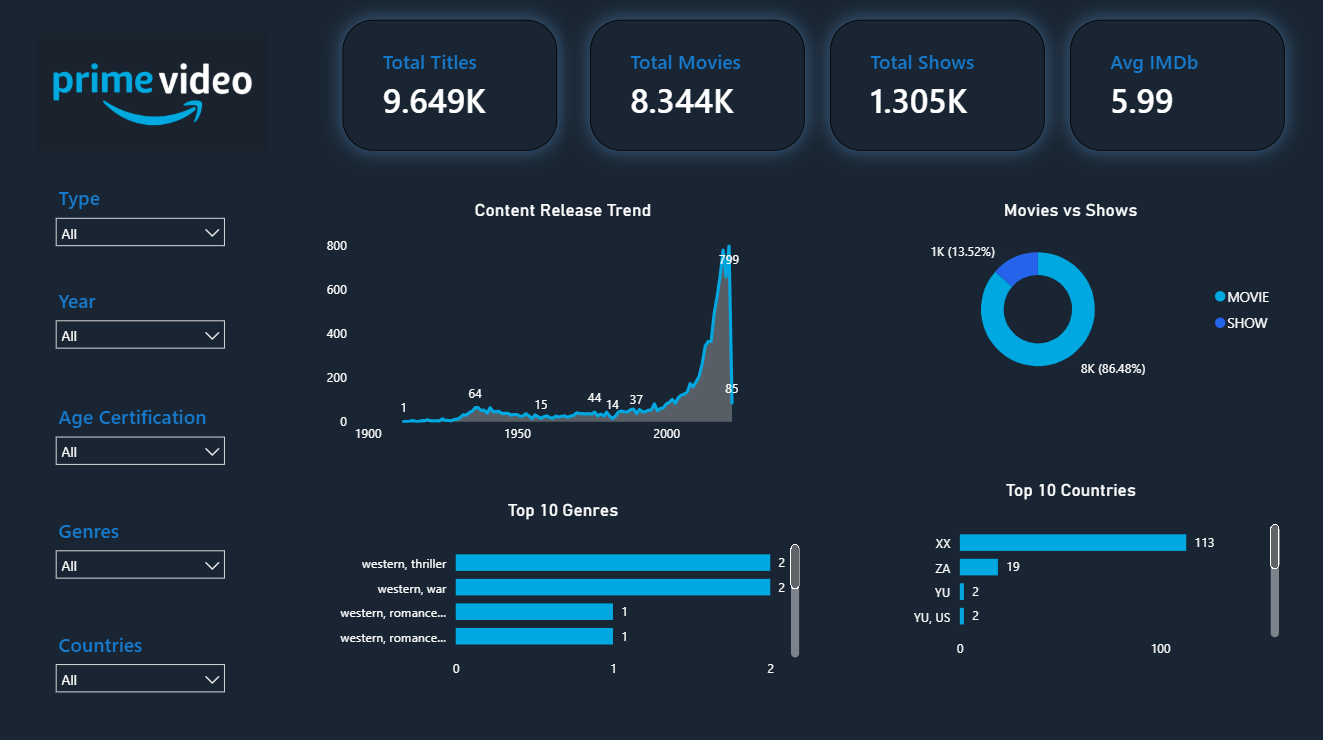

This screenshot's page, from the dashboard's own definition file:
{"tool":"powerbi","page":{"name":"Page 1","canvas":[1280,720],"ordinal":0},"visuals":[{"type":"cardVisual","fields":{"Data":["titles.Total_titles"]},"box":[330.7,23.3,207.2,126.2],"z":0},{"type":"cardVisual","fields":{"Data":["titles.Total_movies"]},"box":[569.5,23.3,207.2,126.2],"z":1000},{"type":"cardVisual","fields":{"Data":["titles.Total_shows"]},"box":[801.4,23.3,207.2,126.2],"z":2000},{"type":"cardVisual","fields":{"Data":["titles.Avg_IMDb_score"]},"box":[1033.3,23.3,207.2,126.2],"z":3000},{"type":"image","box":[30.2,35.7,231.9,113.9],"z":4000},{"type":"slicer","fields":{"Values":["titles.type"]},"box":[43.9,177,183.9,83.7],"z":5000},{"type":"slicer","fields":{"Values":["titles.genres"]},"box":[43.9,498.1,183.9,78.2],"z":6000},{"type":"slicer","fields":{"Values":["titles.age_certification"]},"box":[43.9,388.3,183.9,78.2],"z":7000},{"type":"slicer","fields":{"Values":["titles.release_year"]},"box":[43.9,275.8,183.9,83.7],"z":8000},{"type":"lineChart","title":"Content Release Trend","fields":{"Y":["titles.Total_titles"],"Category":["titles.release_year"]},"box":[310.1,196.2,466.6,244.3],"z":9000},{"type":"donutChart","title":"Movies vs Shows ","fields":{"Category":["titles.type"],"Y":["titles.Total_titles"]},"box":[827.4,196.2,411.7,181.1],"z":10000},{"type":"clusteredBarChart","title":"Top 10 Genres","fields":{"Category":["titles.genres"],"Y":["CountNonNull(titles.title)"]},"box":[310.1,485.8,466.6,181.1],"z":11000},{"type":"clusteredBarChart","title":"Top 10 Countries","fields":{"Y":["CountNonNull(titles.title)"],"Category":["titles.production_countries"]},"box":[827.4,466.6,412,181],"z":12000},{"type":"slicer","fields":{"Values":["titles.production_countries"]},"box":[43.9,607.9,183.9,78.2],"z":13000}]}

Visuals, with their boxes in screenshot pixels (x1, y1, x2, y2), scaled from the page's 1280x720 canvas onto the 1323x740 screenshot:
cardVisual - titles.Total_titles: 342,24,556,154
cardVisual - titles.Total_movies: 589,24,803,154
cardVisual - titles.Total_shows: 828,24,1042,154
cardVisual - titles.Avg_IMDb_score: 1068,24,1282,154
image: 31,37,271,154
slicer - titles.type: 45,182,235,268
slicer - titles.genres: 45,512,235,592
slicer - titles.age_certification: 45,399,235,479
slicer - titles.release_year: 45,283,235,369
"Content Release Trend" lineChart: 321,202,803,453
"Movies vs Shows " donutChart: 855,202,1281,388
"Top 10 Genres" clusteredBarChart: 321,499,803,685
"Top 10 Countries" clusteredBarChart: 855,480,1281,666
slicer - titles.production_countries: 45,625,235,705
